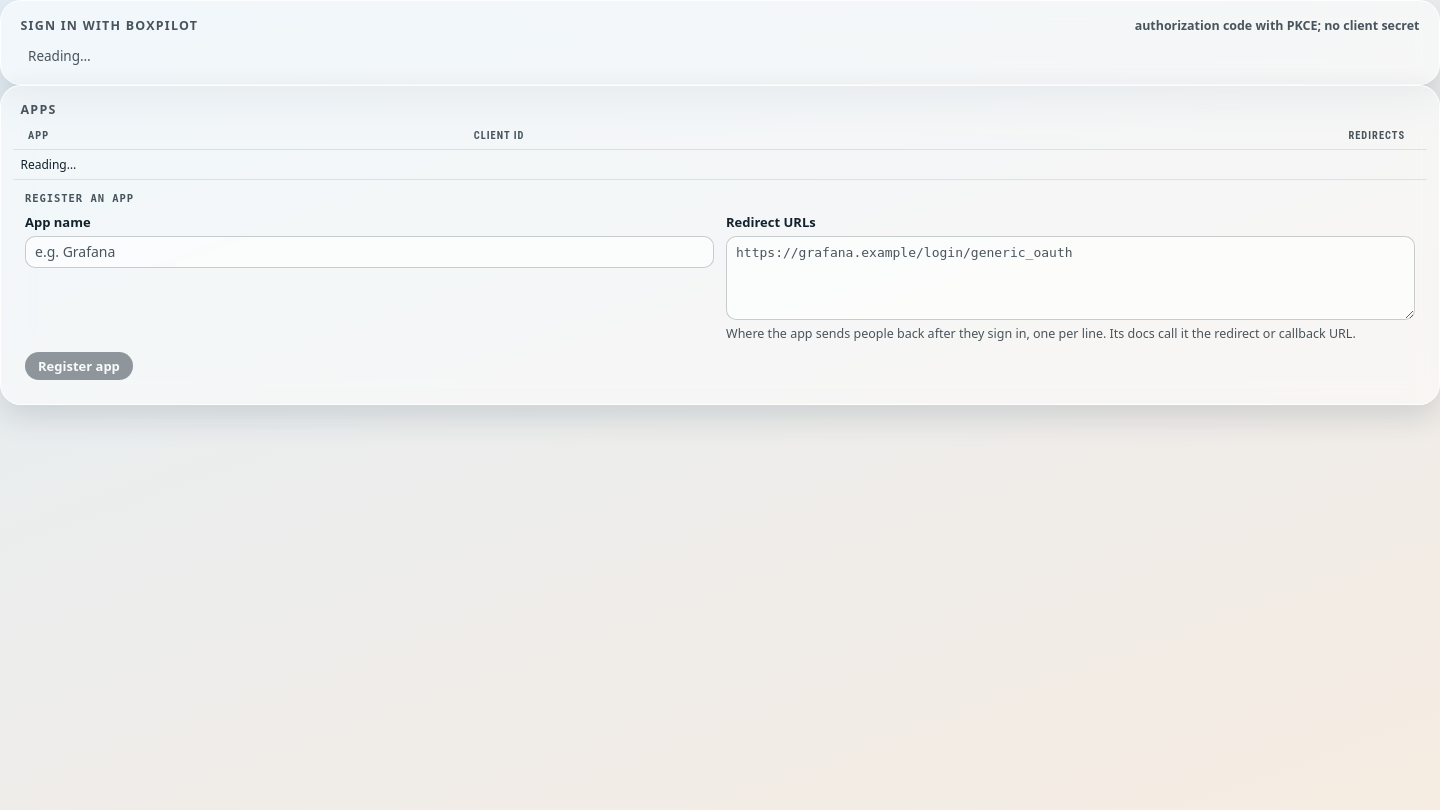
Test: Single sign-on panel › says why a registration was refused and keeps what was typed
The width and height of the screenshot is (1440, 810).
Type "Wiki" into the field labelled "App name" at point(370, 252), box [25, 236, 714, 268]
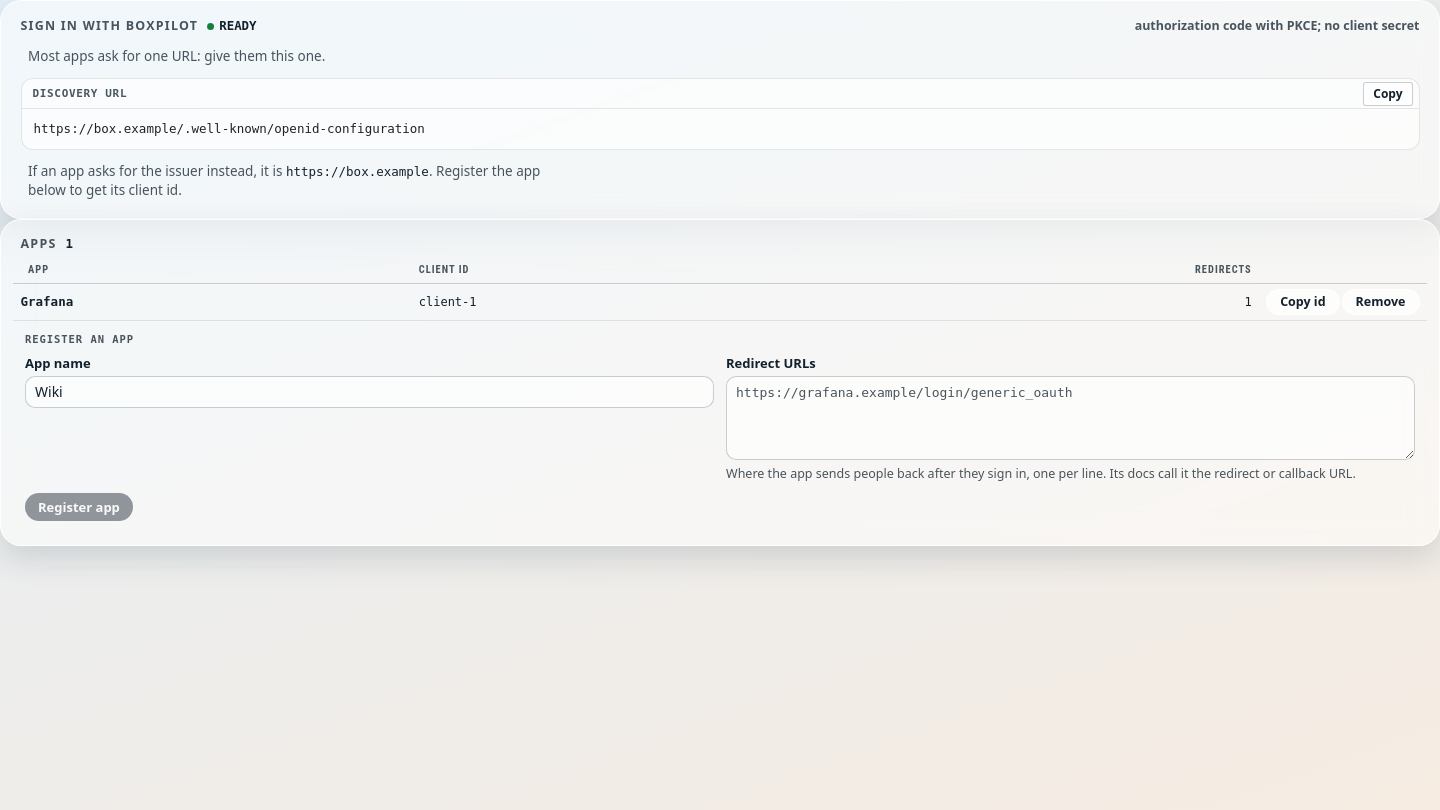
Type "ftp://x" into the text box labelled "Redirect URLs" at point(1070, 418), box [726, 376, 1415, 460]
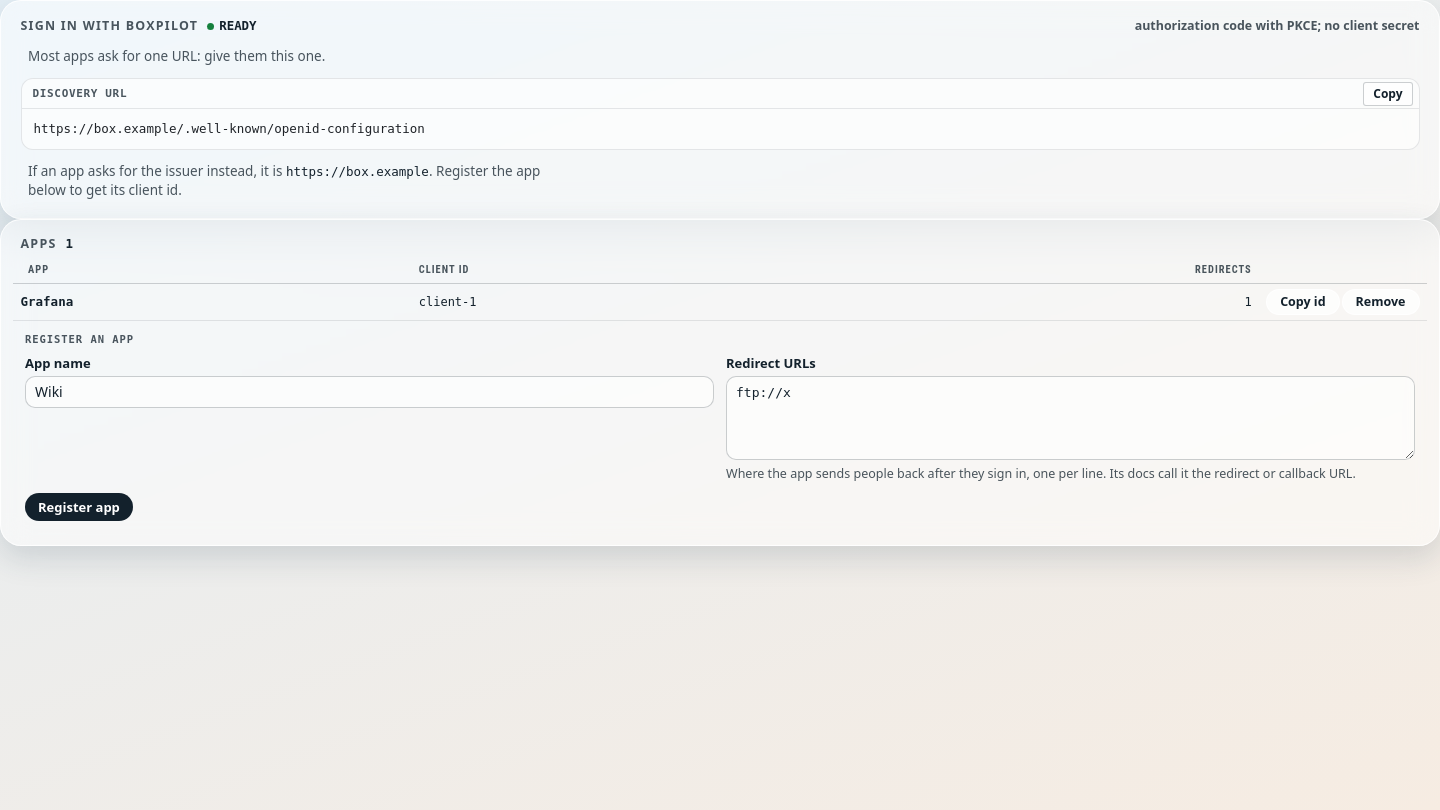
Click the button "Register app" at point(79, 507), box [25, 493, 133, 521]
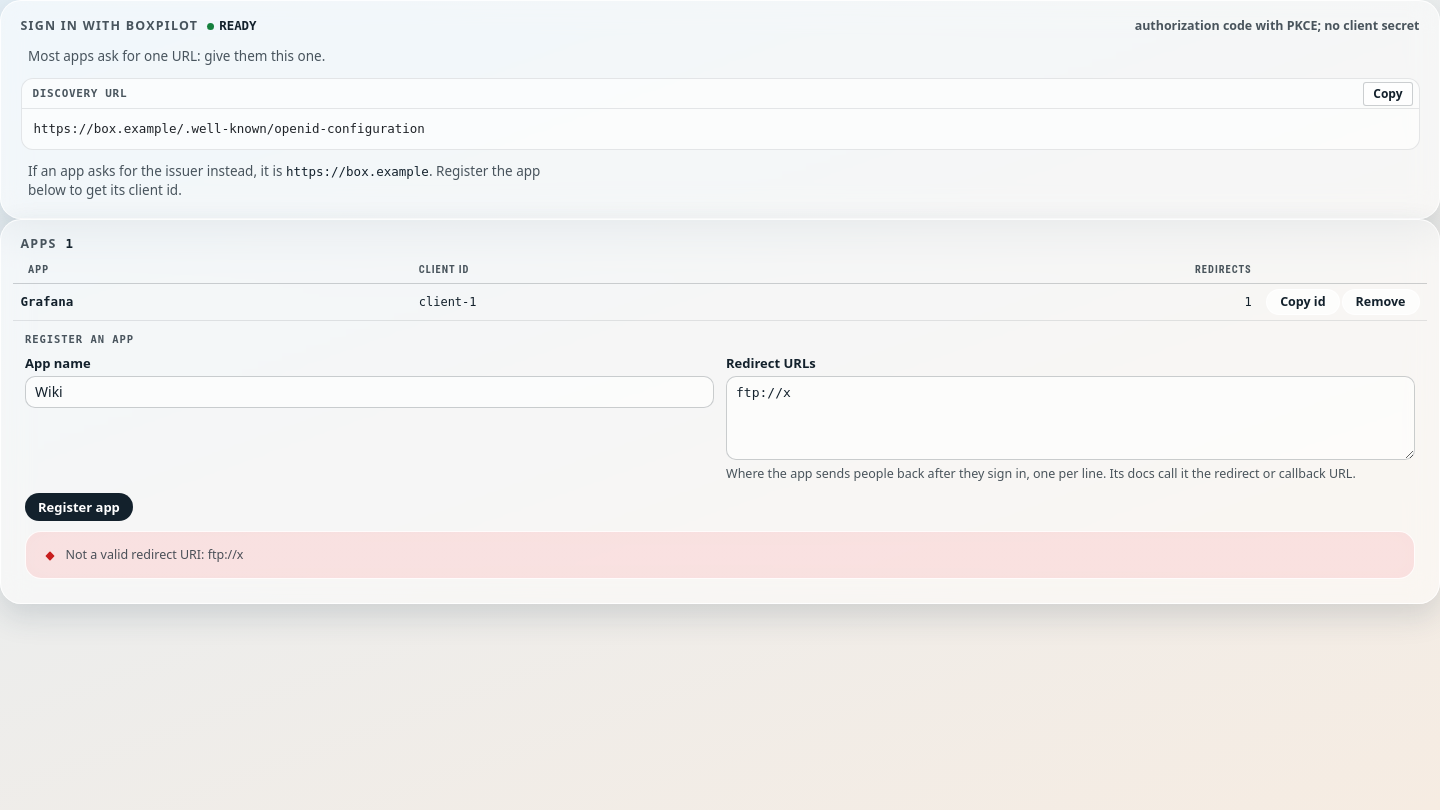
Expected: the text "Not a valid redirect URI: ftp://x" is shown, [66, 546, 244, 563]
